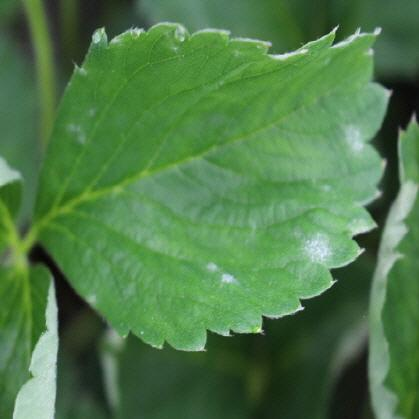Powdery Mildew Leaf: (30, 20, 394, 352), (365, 111, 418, 418), (0, 261, 58, 418)
